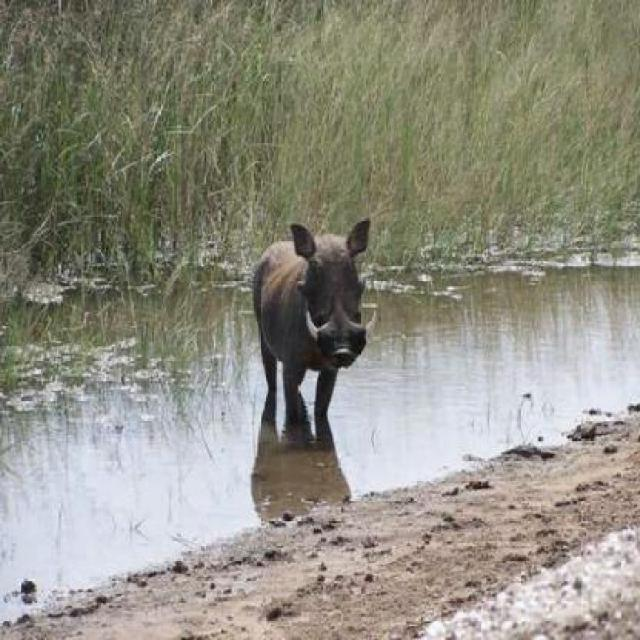Boar: (200, 217, 385, 475)
